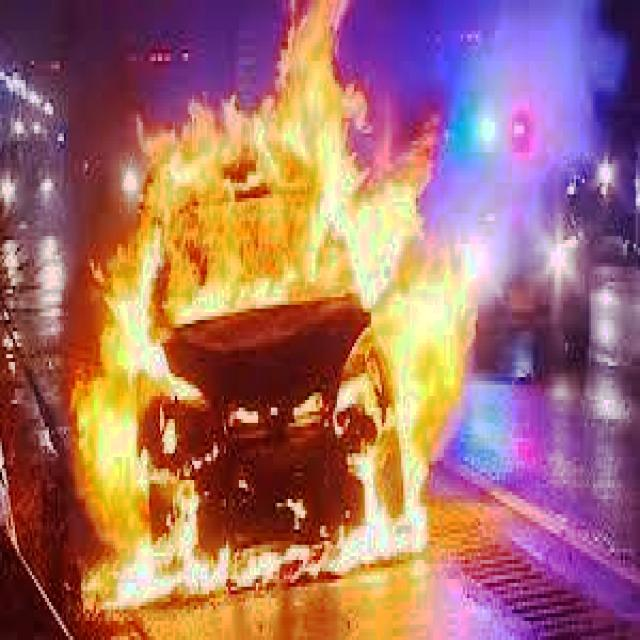api: (44, 28, 485, 603)
